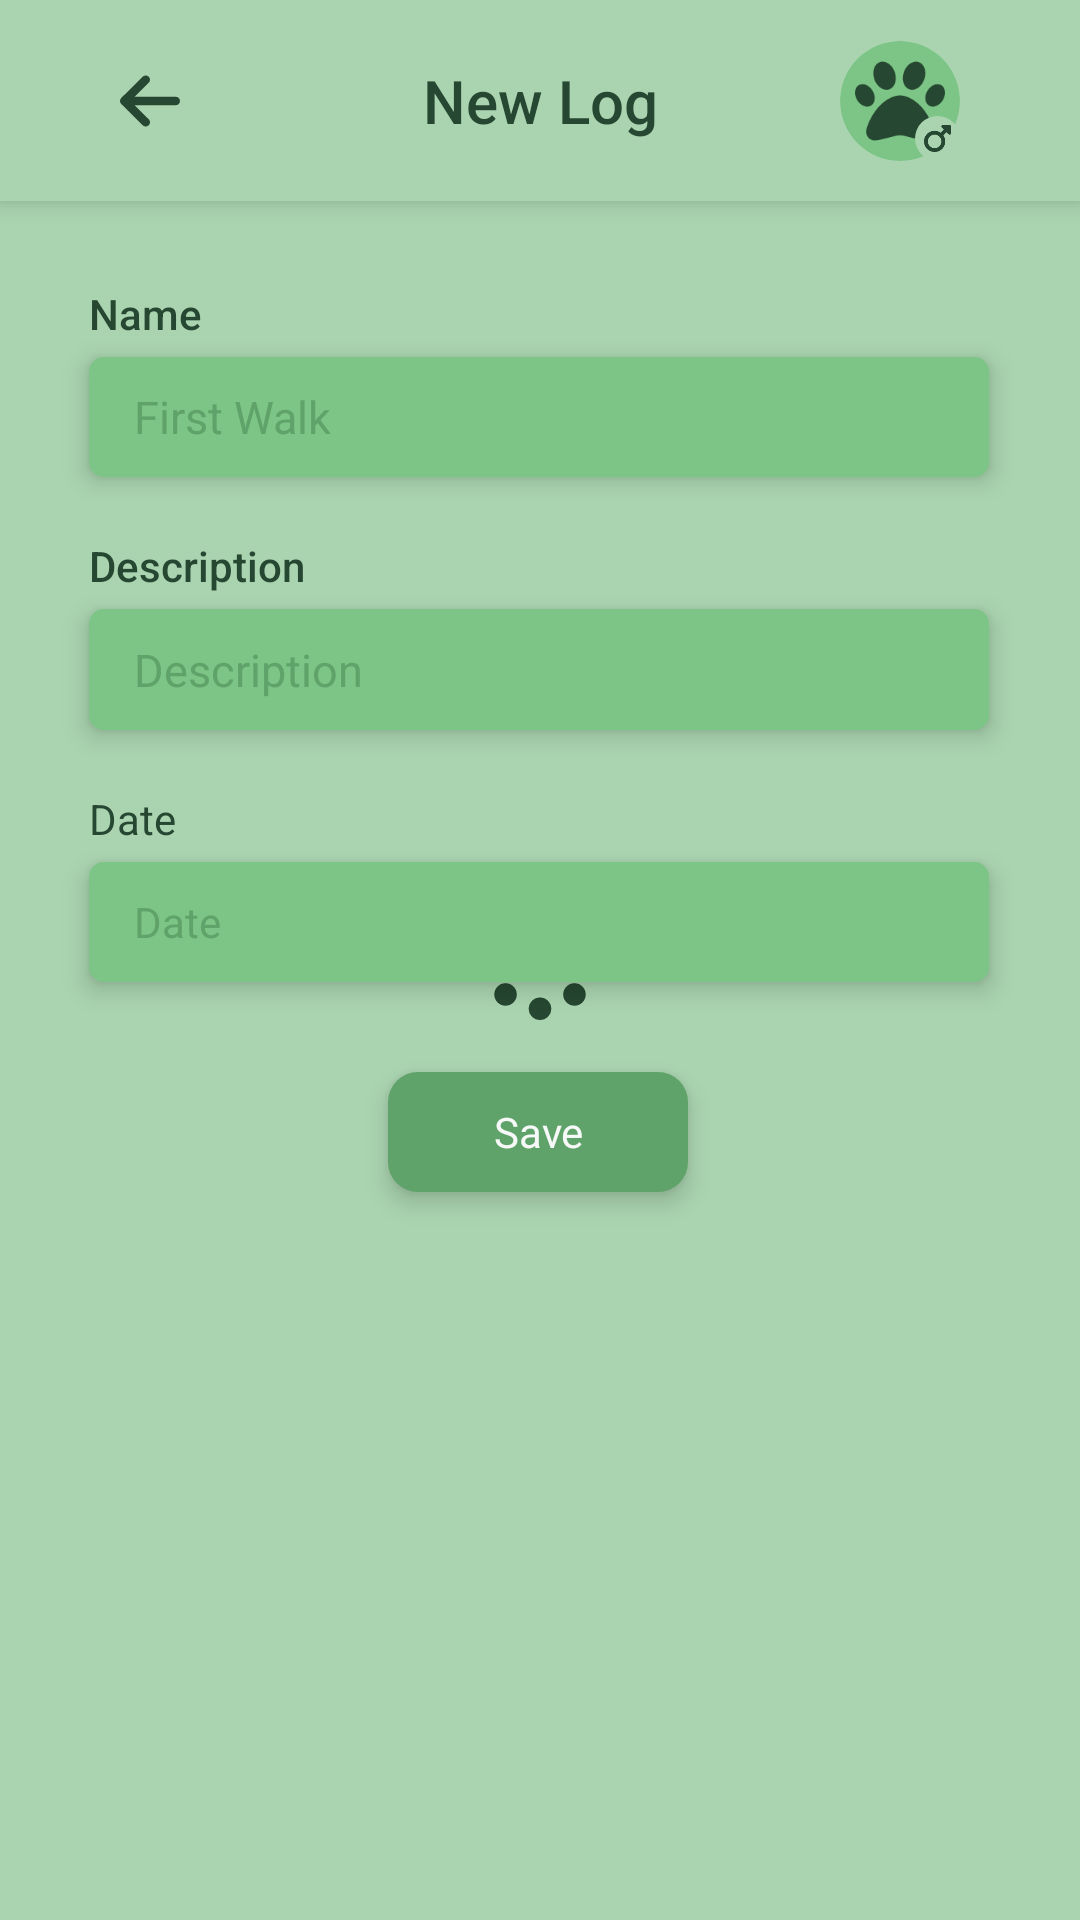

Named icons in this screenshot (1080x1920) and their bounding boxes, (x1, y1, x2, y2):
arrow left: (120, 75, 180, 127)
